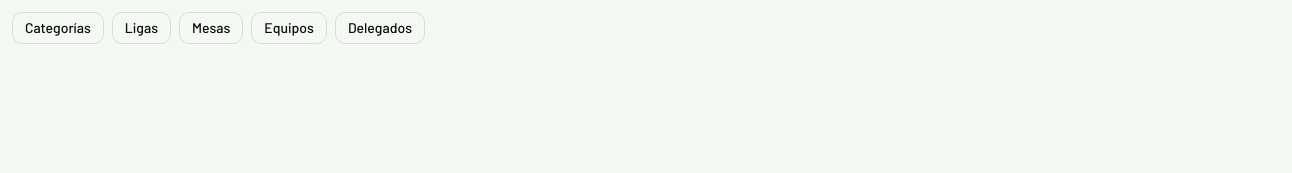
Scenario: ActividadCliente (plataforma, solo lectura) › mesas: acceso y cantidad de ligas
This screenshot has width=1292, height=173.
Click the button "Mesas" at (211, 28), box [179,12,243,44]
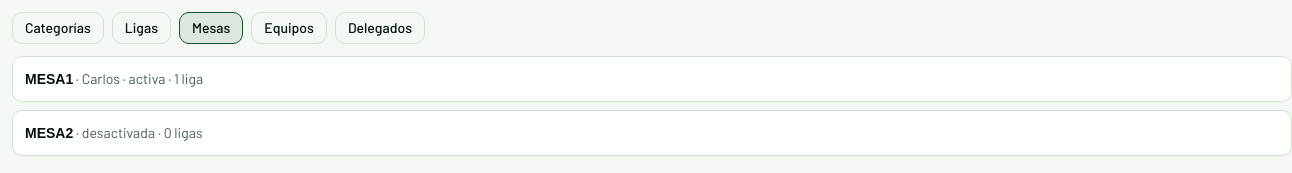
Now the list named "Mesas del cliente" shows "MESA1", box [25,71,73,87]
Now the list named "Mesas del cliente" shows "Carlos", box [73,70,120,87]
Now the list named "Mesas del cliente" shows "activa", box [129,70,165,87]
